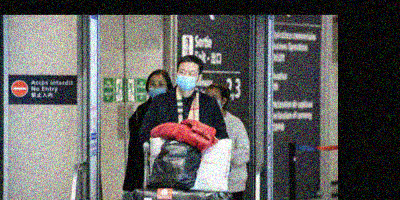with_mask: (175, 67, 198, 91), (146, 78, 169, 98), (207, 91, 223, 110)
